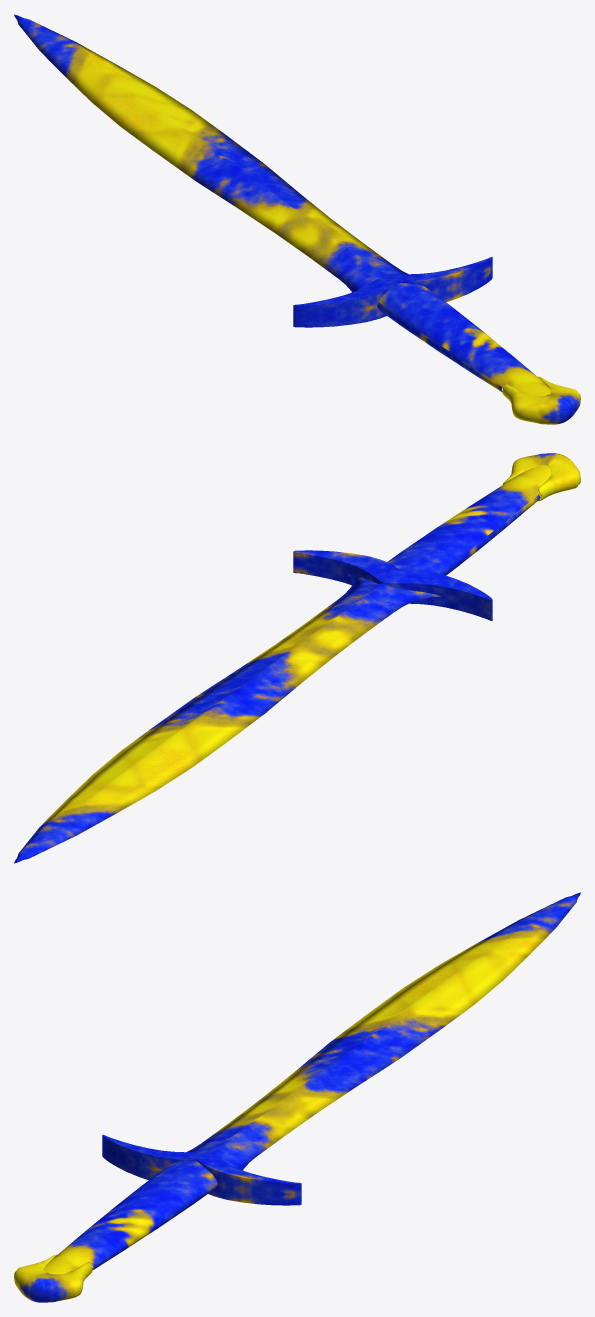
3 renders of one model, top to bottom at view 1: azimuth 30°, elevation 25°; view 2: azimuth 150°, elevation 25°; view 3: azimuth 330°, elevation 25°, orthographic.
Parts seen in each view (by area): view 1: pMesh1; view 2: pMesh1; view 3: pMesh1.
Part boxes in pixels (left/top/right/bottom): pMesh1: left=14, top=14, right=580, bottom=424; pMesh1: left=14, top=453, right=580, bottom=863; pMesh1: left=14, top=892, right=580, bottom=1302.
Bounding box in the file's own units: 0.4193 × 0.0565 × 2.
